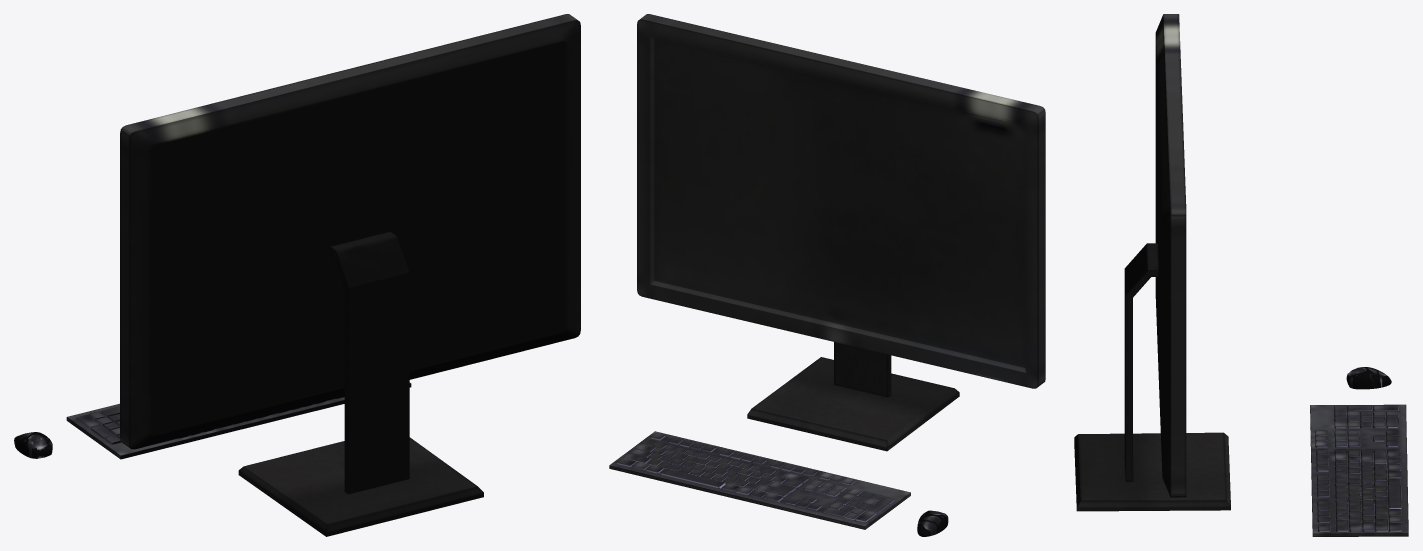
Rendered from diannao001.obj.
The picture shows the model from 3 angles, left to right: view 1: azimuth 30°, elevation 25°; view 2: azimuth 150°, elevation 25°; view 3: azimuth 270°, elevation 25°; orthographic projection. The views are drawn at different scales.
Parts seen in each view (by area): view 1: DZYJY107, DZYJY26, DZYJY114; view 2: DZYJY107, DZYJY26, DZYJY114; view 3: DZYJY107, DZYJY26, DZYJY114.
Part boxes in pixels (<box>): DZYJY107: <box>120,14,580,536</box>; DZYJY26: <box>66,382,411,459</box>; DZYJY114: <box>14,432,52,458</box>; DZYJY107: <box>637,14,1045,451</box>; DZYJY26: <box>609,431,910,529</box>; DZYJY114: <box>917,510,948,536</box>; DZYJY107: <box>1074,14,1230,511</box>; DZYJY26: <box>1310,404,1408,536</box>; DZYJY114: <box>1346,367,1391,389</box>.
Size of the model in its own units: 54.09 by 45.75 by 38.1.
Materials: 3 (3 with a texture image).
